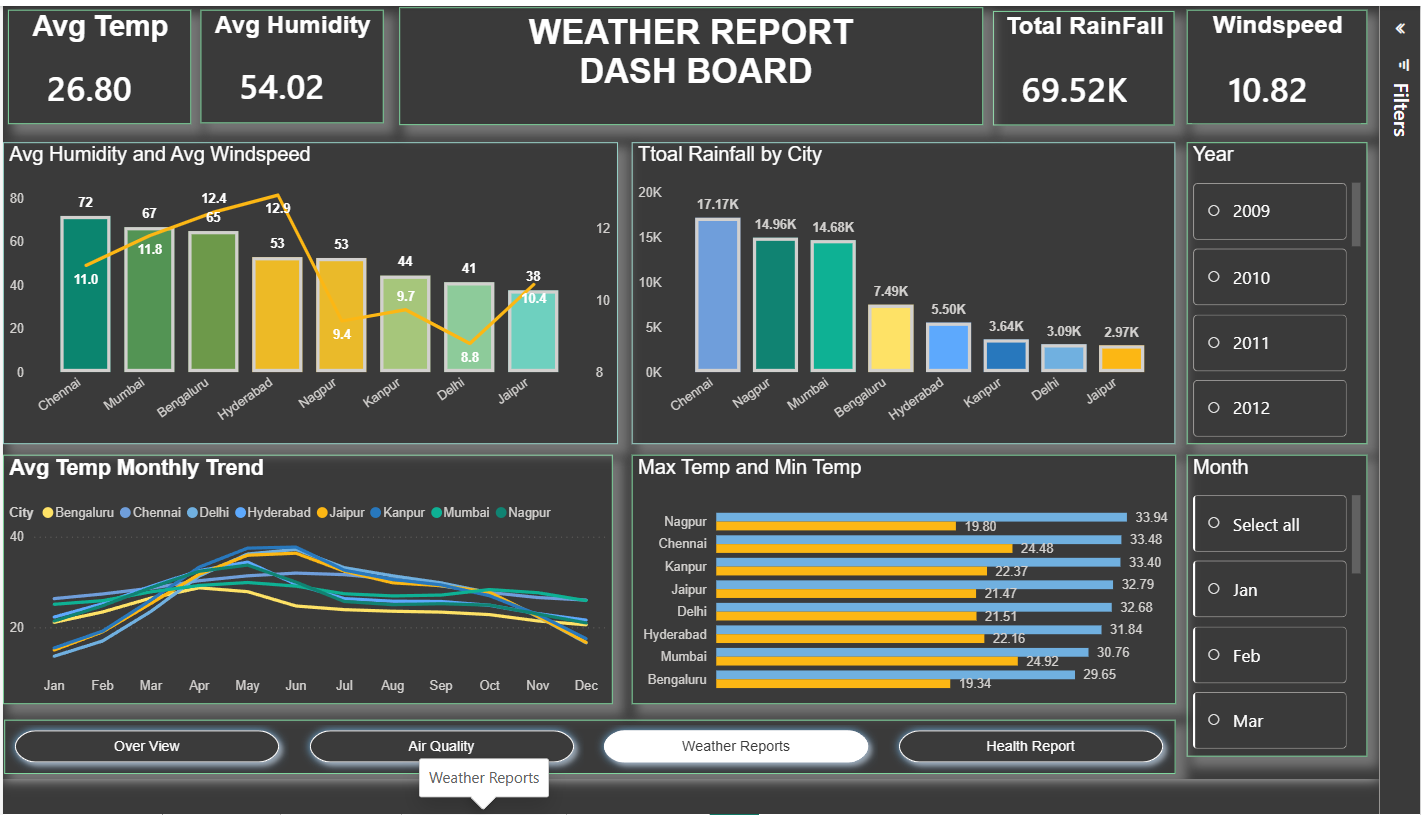

Layout of this report page (visuals, bound fields, positions):
{"tool":"powerbi","page":{"name":"Weather Reports","canvas":[1280,720],"ordinal":2},"visuals":[{"type":"cardVisual","title":"Avg Temp","fields":{"Data":["Avg(Weather_Report_updated.Avg_Temp)"]},"box":[4.9,3.7,170,106],"z":0},{"type":"cardVisual","title":"Avg Humidity","fields":{"Data":["Avg(Weather_Report_updated.Avg_Humidity)"]},"box":[184.1,3.7,170.6,105.5],"z":1000},{"type":"cardVisual","title":"Total RainFall","fields":{"Data":["Sum(Weather_Report_updated.Total_Rainfall)"]},"box":[921.5,4.9,169,106],"z":2000},{"type":"cardVisual","title":"Windspeed","fields":{"Data":["Avg(Weather_Report_updated.Avg_WindSpeed)"]},"box":[1100.6,3.7,168,106.7],"z":3000},{"type":"lineChart","title":"Avg Temp Monthly Trend","fields":{"Y":["Avg(Weather_Report_updated.Avg_Temp)"],"Category":["Date Table.Month"],"Series":["City Table.City"]},"box":[0,417.2,566.9,231.9],"z":4000},{"type":"columnChart","title":"Ttoal Rainfall by City","fields":{"Category":["City Table.City"],"Y":["Sum(Weather_Report_updated.Total_Rainfall)"],"Series":["City Table.City"]},"box":[585.3,126.4,505.5,281],"z":5000},{"type":"lineStackedColumnComboChart","title":"Avg Humidity and Avg Windspeed","fields":{"Y":["Avg(Weather_Report_updated.Avg_Humidity)"],"Y2":["Avg(Weather_Report_updated.Avg_WindSpeed)"],"Category":["City Table.City"]},"box":[0,126.4,571.8,281],"z":6000},{"type":"advancedSlicerVisual","fields":{"Values":["Date Table.Year"]},"box":[1100.6,126.4,168.1,281],"z":7000},{"type":"advancedSlicerVisual","fields":{"Values":["Date Table.Month"]},"box":[1100.6,417.2,168.1,281],"z":8000},{"type":"clusteredBarChart","title":"Max Temp and Min Temp","fields":{"Y":["Avg(Weather_Report_updated.Max_Temp)","Avg(Weather_Report_updated.Min_Temp)"],"Category":["City Table.City"]},"box":[585,417,506,232],"z":9000},{"type":"pageNavigator","box":[1.2,663.8,1089.6,50.3],"z":10000},{"type":"textbox","box":[368.1,1.2,543.6,109.2],"z":11000}]}

Visuals, with their boxes on the page's 1280x720 design canvas (x1, y1, x2, y2). These are canvas units, not pixel positions in the 1421x815 screenshot, which may show the page scaled, cropped or inside an application window:
"Avg Temp" cardVisual: box=[5, 4, 175, 110]
"Avg Humidity" cardVisual: box=[184, 4, 355, 109]
"Total RainFall" cardVisual: box=[922, 5, 1090, 111]
"Windspeed" cardVisual: box=[1101, 4, 1269, 110]
"Avg Temp Monthly Trend" lineChart: box=[0, 417, 567, 649]
"Ttoal Rainfall by City" columnChart: box=[585, 126, 1091, 407]
"Avg Humidity and Avg Windspeed" lineStackedColumnComboChart: box=[0, 126, 572, 407]
advancedSlicerVisual - Date Table.Year: box=[1101, 126, 1269, 407]
advancedSlicerVisual - Date Table.Month: box=[1101, 417, 1269, 698]
"Max Temp and Min Temp" clusteredBarChart: box=[585, 417, 1091, 649]
pageNavigator: box=[1, 664, 1091, 714]
textbox: box=[368, 1, 912, 110]
